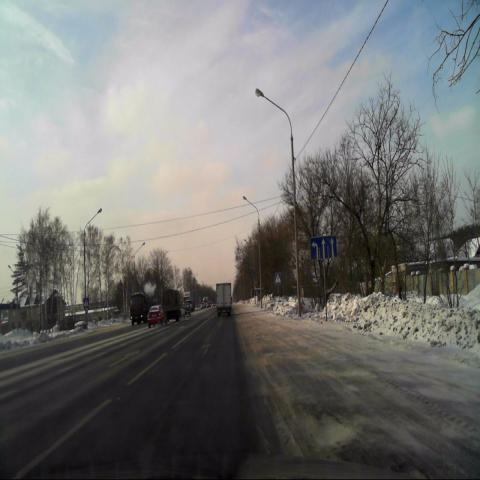5_15_1: (310, 236, 336, 259)
